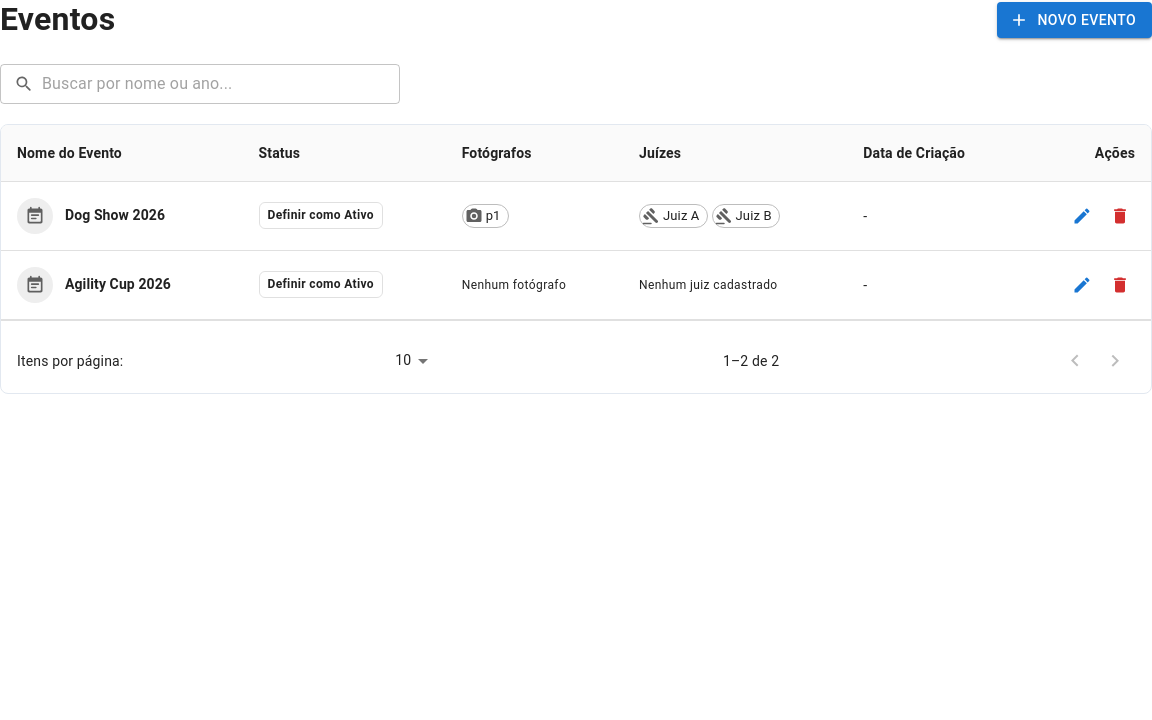
Scenario: SeasonsPage › opens edit modal without navigating to /dashboard when clicking the edit button
Check: the heading "Dog Show 2026" is shown, box [65, 204, 165, 226]
Click the button named "editar evento" in the row of "Dog Show 2026": [1082, 216] box [1067, 200, 1097, 230]
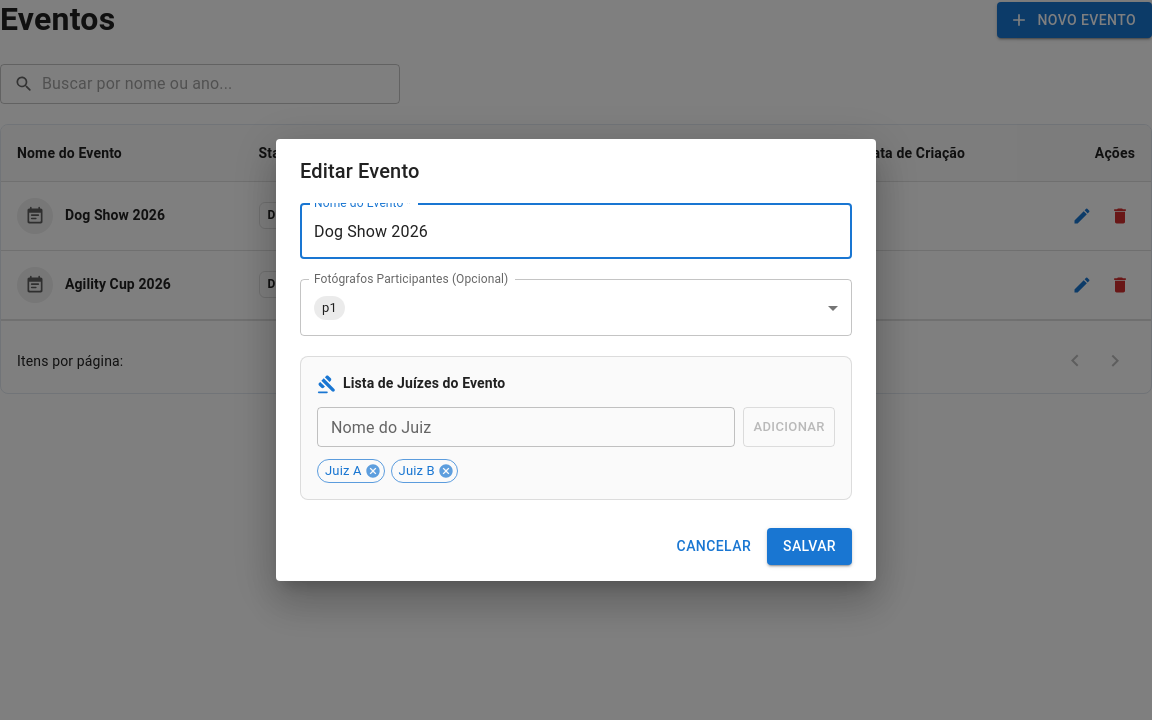
Check: the heading "Editar Evento" is shown, box [300, 159, 419, 183]
